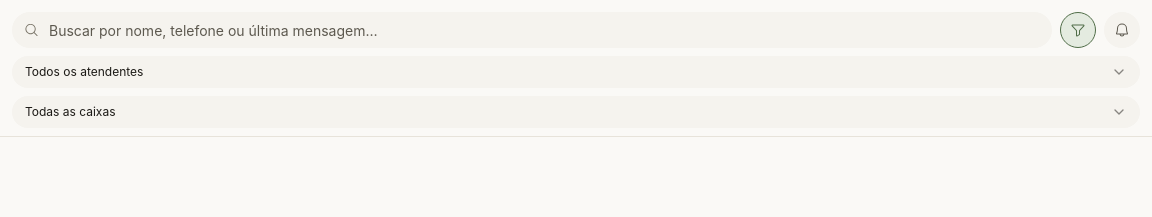
Test case: o seletor de ATENDENTE › quem não vê colegas recebe a lista vazia do servidor: sobram Eu e Sem atendente
Click the dropdown named "Filtrar por atendente" at (84, 72), box left=12, top=56, right=1140, bottom=88
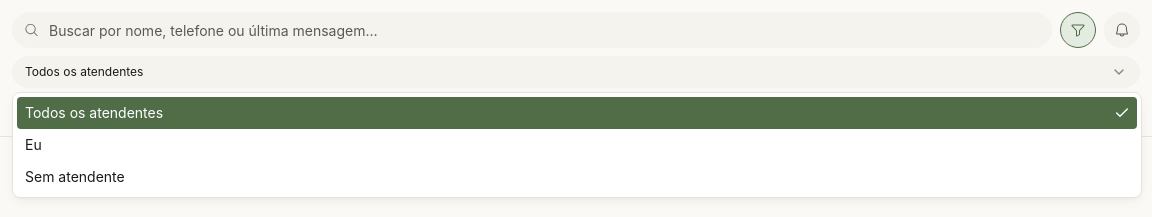
expect the text "Eu" is shown: met, box left=25, top=135, right=42, bottom=155
expect the text "Sem atendente" is shown: met, box left=25, top=167, right=125, bottom=187
